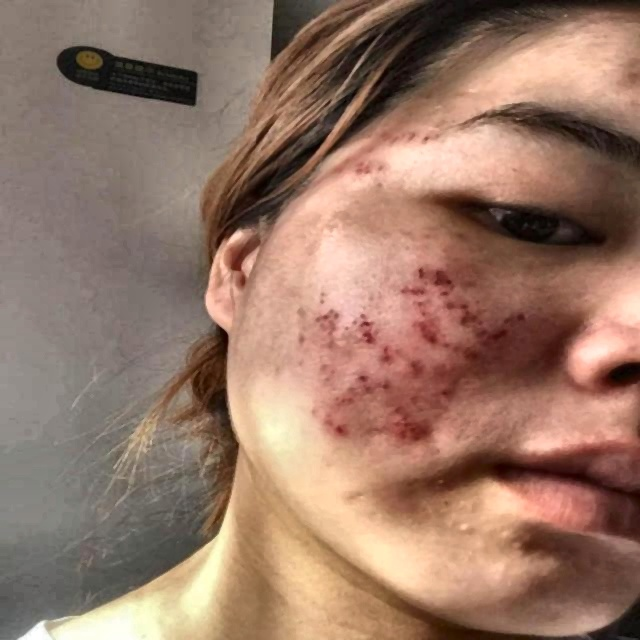pustule: (392, 414, 443, 452), (407, 314, 453, 344), (330, 388, 370, 419), (318, 418, 358, 439), (483, 316, 510, 346), (356, 154, 381, 185), (407, 127, 435, 151), (373, 123, 399, 148), (438, 290, 466, 312), (356, 320, 381, 344), (375, 341, 402, 363), (318, 302, 339, 327), (407, 354, 432, 372), (411, 266, 439, 278), (436, 275, 454, 290)
